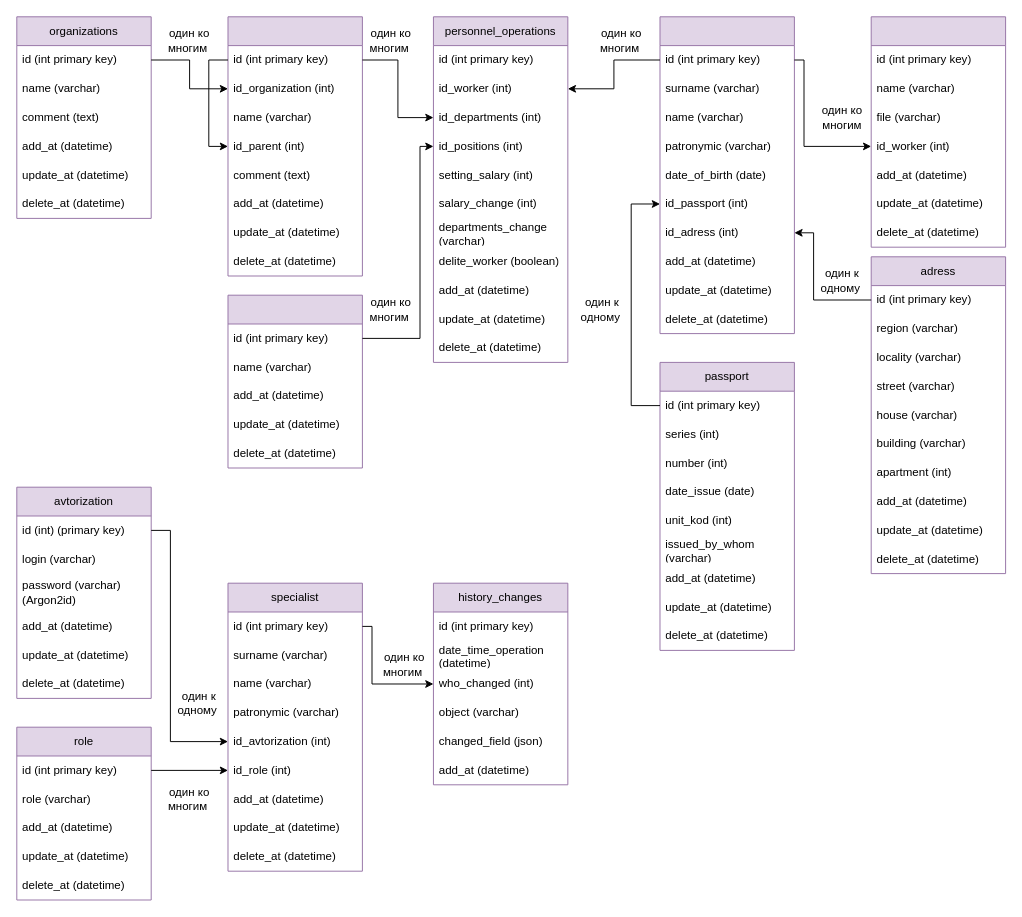
Some shapes in this 1022 by 917 pixel diagram are drawn without their labels. The box of each missing label's shape, as (x1, y1, x2, y2) in pixels:
departments: (227, 16, 362, 276)
files: (870, 16, 1006, 247)
positions: (227, 294, 362, 468)
workers: (659, 16, 794, 334)
